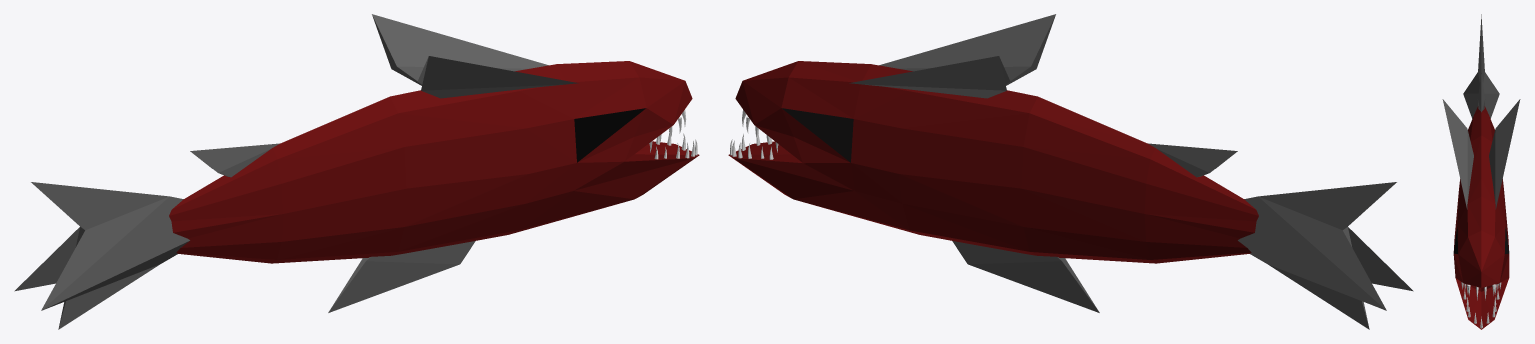
File: Rippy90turn.fbx
3 renders of one model, left to right at view 1: azimuth 30°, elevation 25°; view 2: azimuth 150°, elevation 25°; view 3: azimuth 270°, elevation 25°, orthographic. The views are drawn at different scales.
Parts seen in each view (by area): view 1: pasted__pPyramid4; view 2: pasted__pPyramid4; view 3: pasted__pPyramid4.
Boxes of the visible parts, x1,y1,x2,y2 form: pasted__pPyramid4: [14, 14, 699, 329]; pasted__pPyramid4: [728, 14, 1413, 329]; pasted__pPyramid4: [1442, 14, 1520, 329].
Bounding box in the file's own units: 6.49 × 2.4 × 0.9556.
